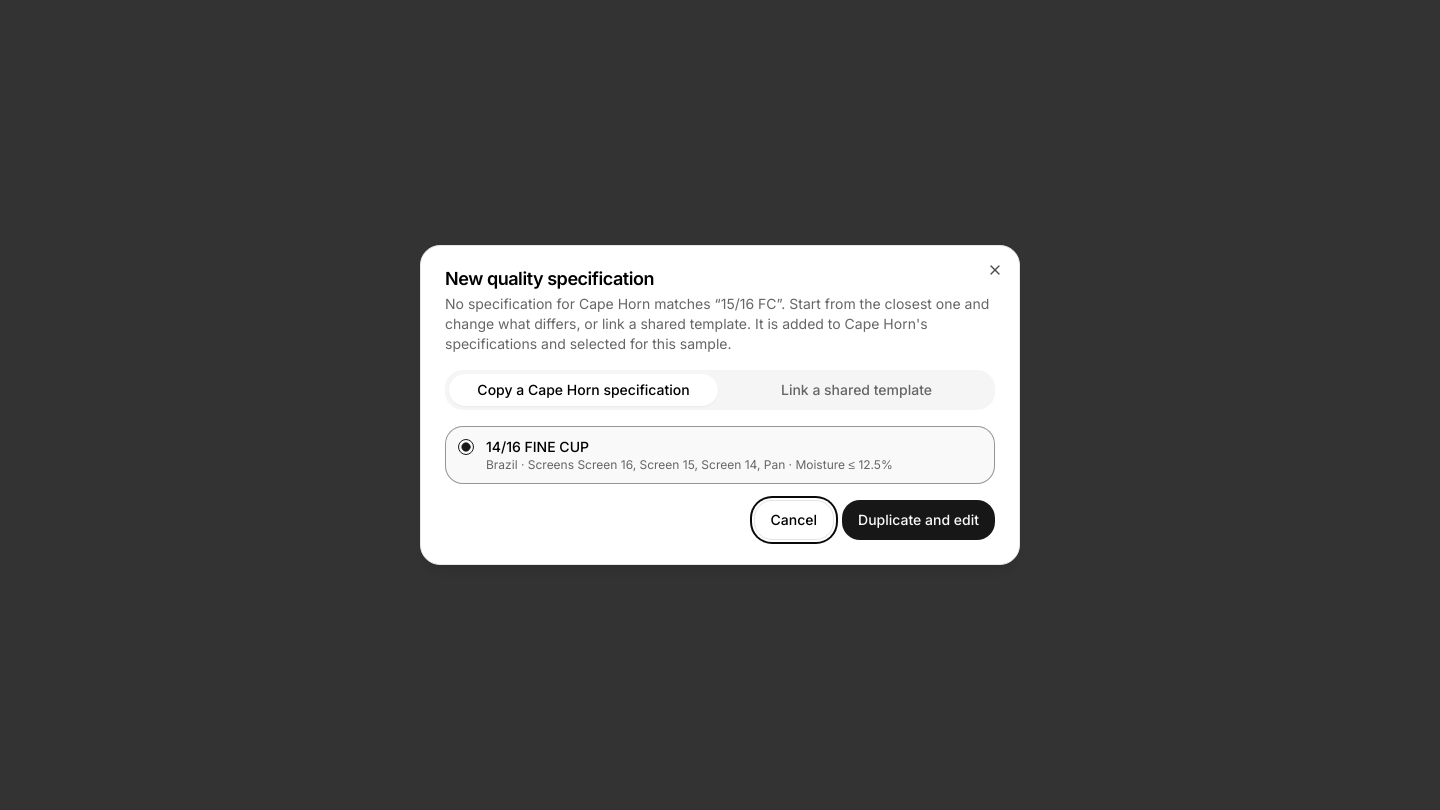
Scenario: LinkQualityTemplateDialog duplicating a client specification › opens on the changes read from the contract, in amber, and turns each green when marked correct
The image size is (1440, 810).
Click the button "Duplicate and edit" at [919, 520], box [842, 500, 995, 540]
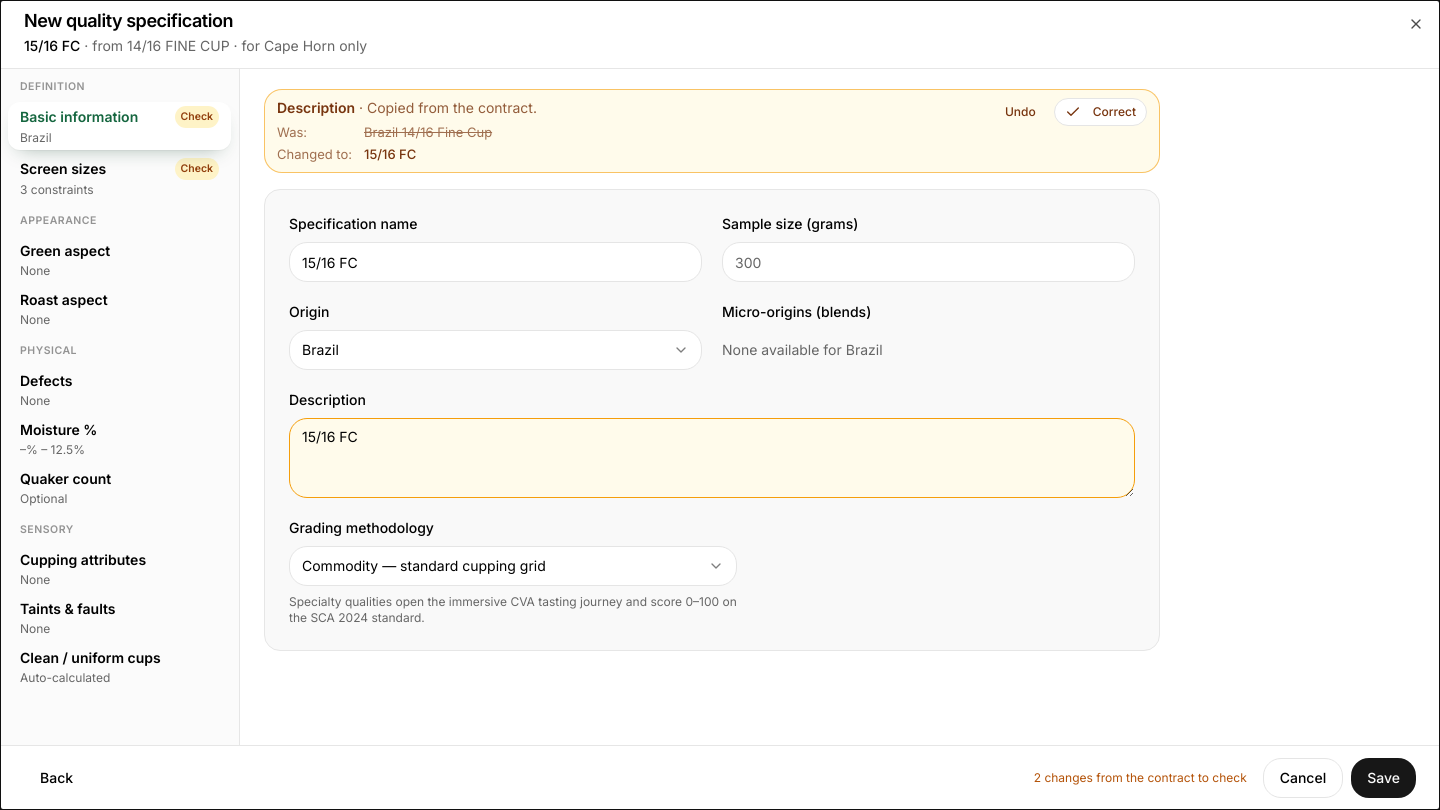
Check: the text box labelled "Description" holds "15/16 FC", box [289, 418, 1135, 498]
Check: the text "2 changes from the contract to check" is shown, box [1034, 770, 1247, 786]
Click the button "Correct" at [1100, 112], box [1054, 98, 1147, 126]
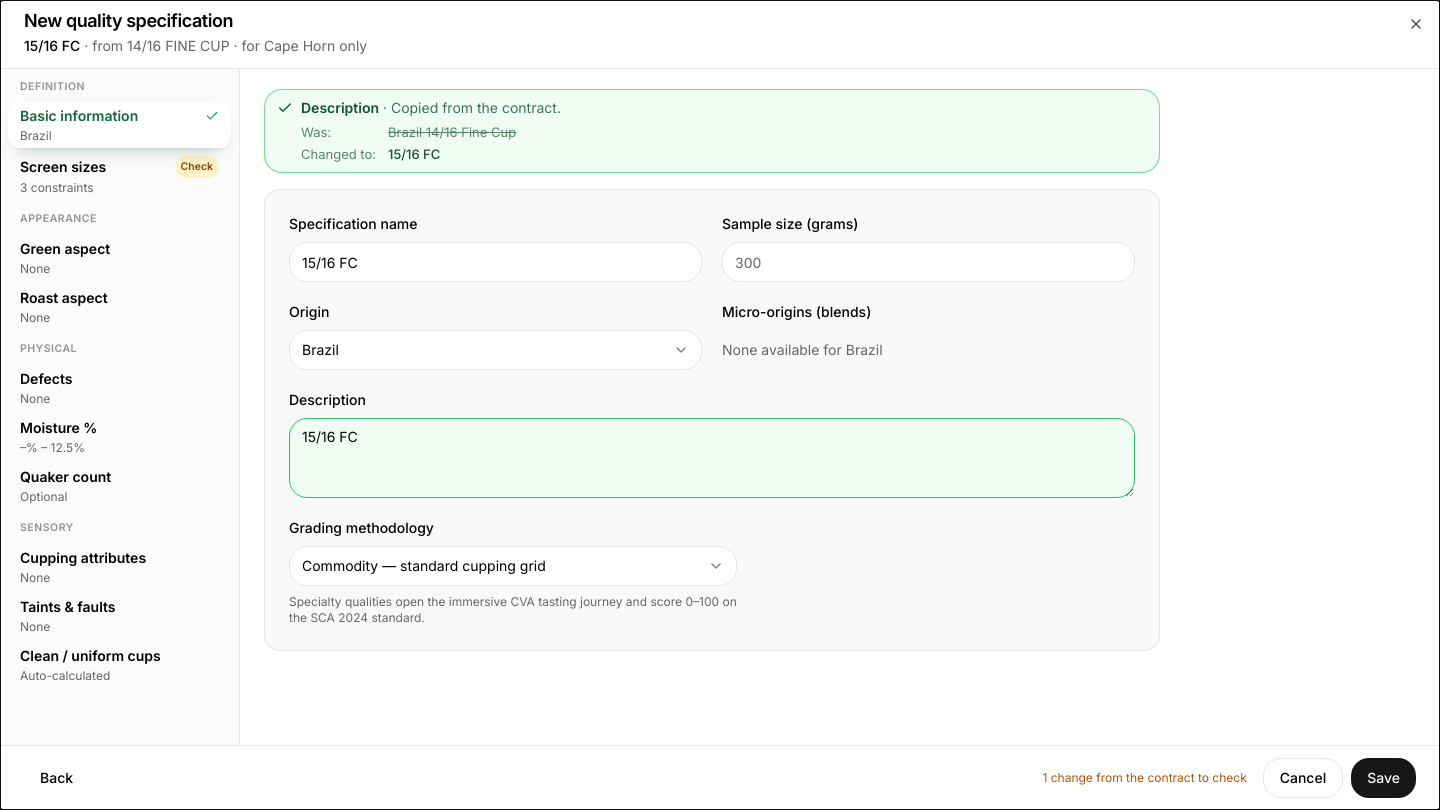
Check: the text "1 change from the contract to check" is shown, box [1042, 770, 1247, 786]
Click the button "Screen sizes Check 3 constraints" at [120, 176], box [8, 152, 231, 200]
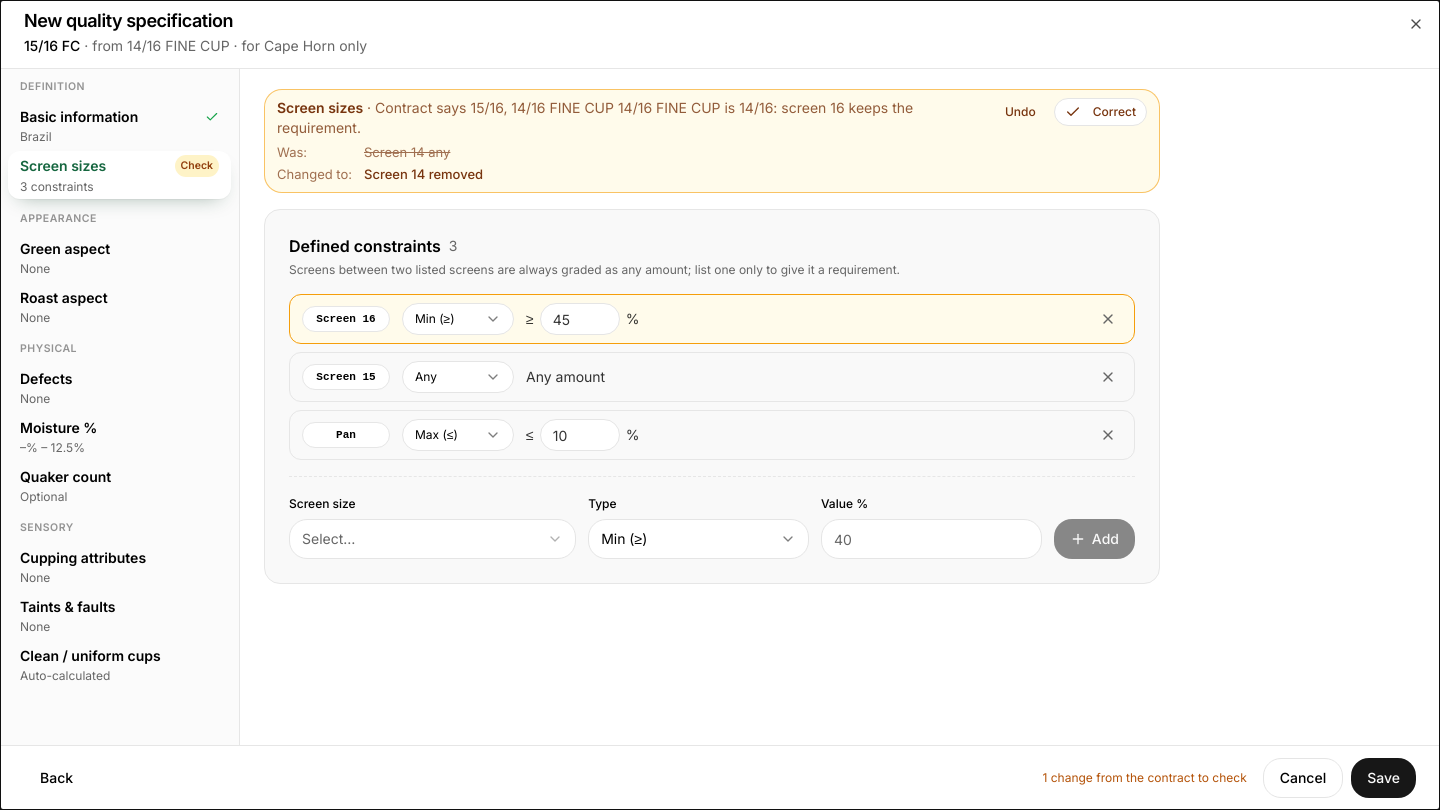
Check: the text "Screen 14 any" is shown, box [364, 144, 450, 160]
Check: the text "Screen 14 removed" is shown, box [364, 166, 483, 182]
Click the button "Correct" at [1100, 112], box [1054, 98, 1147, 126]
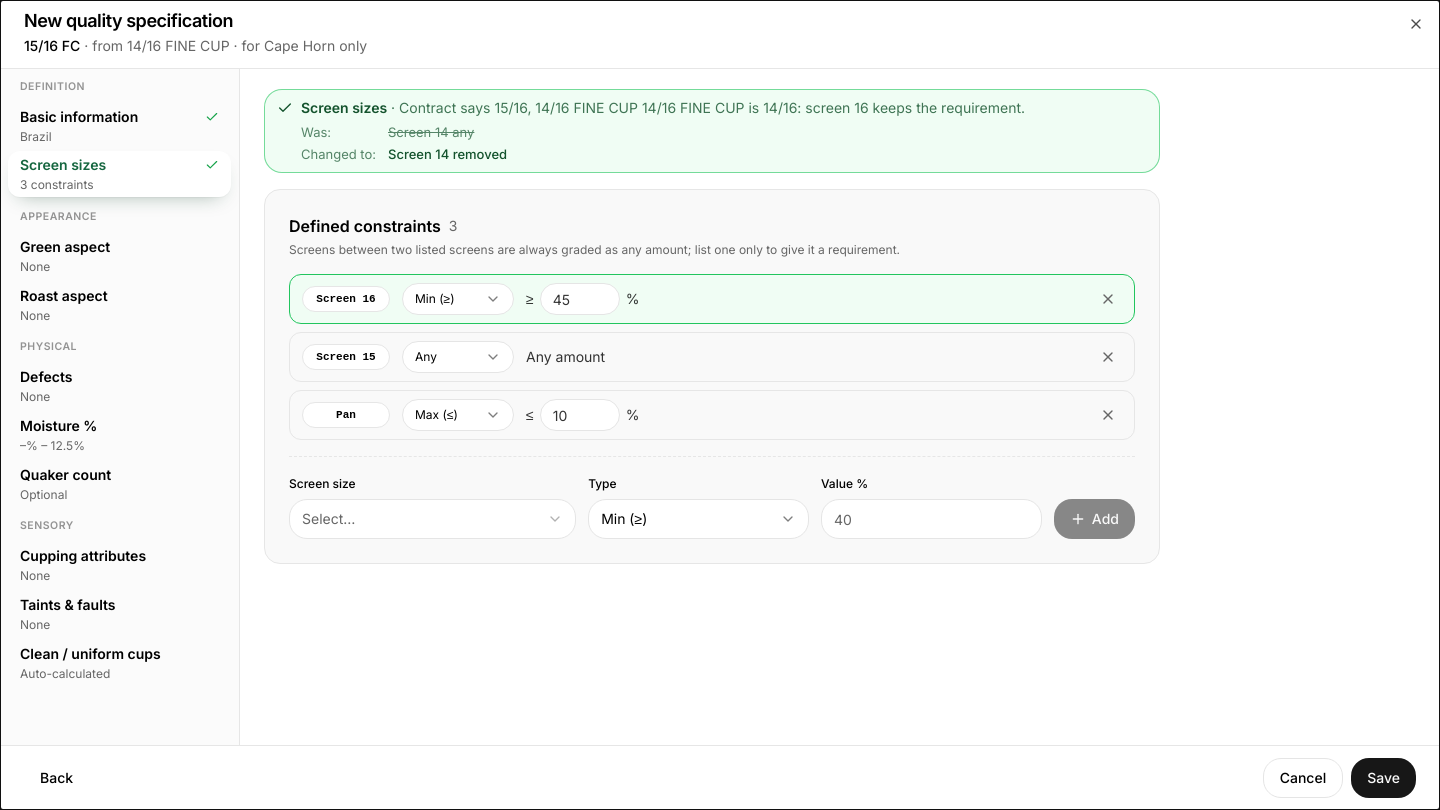
Check: the text "from the contract to check" is gone
